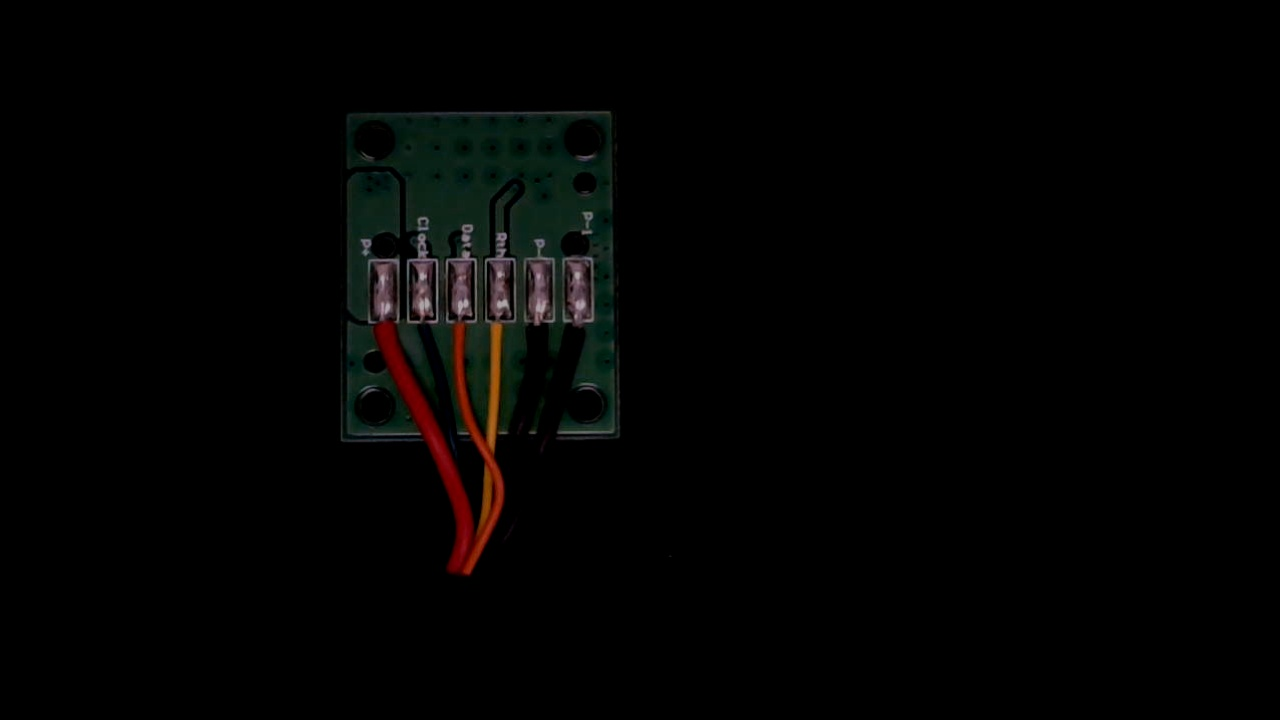Black: (524, 304, 554, 371)
Black1: (564, 304, 593, 364)
Green: (406, 305, 436, 366)
Orange: (446, 305, 474, 367)
Red: (369, 309, 400, 378)
Yellow: (486, 303, 514, 373)
